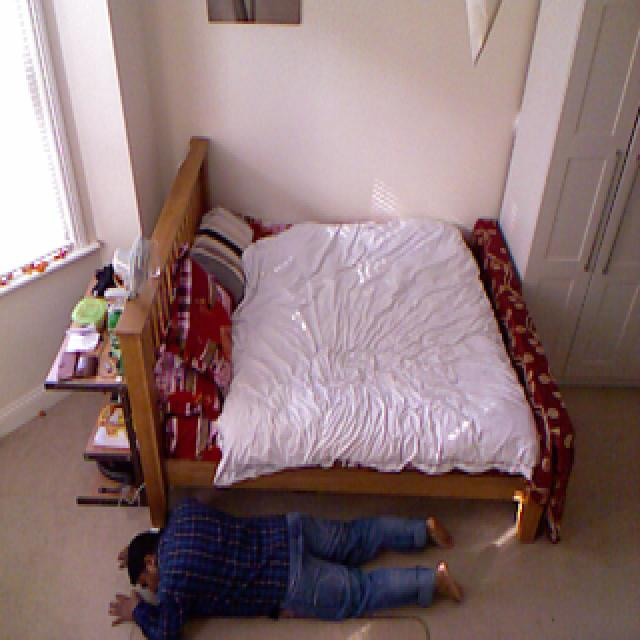lying: (92, 520, 486, 620)
